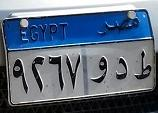2: (30, 54, 46, 94)
6: (48, 53, 65, 92)
7: (65, 55, 81, 90)
9: (11, 57, 29, 94)
Taa: (131, 49, 152, 84)
daal: (113, 55, 128, 82)
waw: (89, 54, 109, 87)
